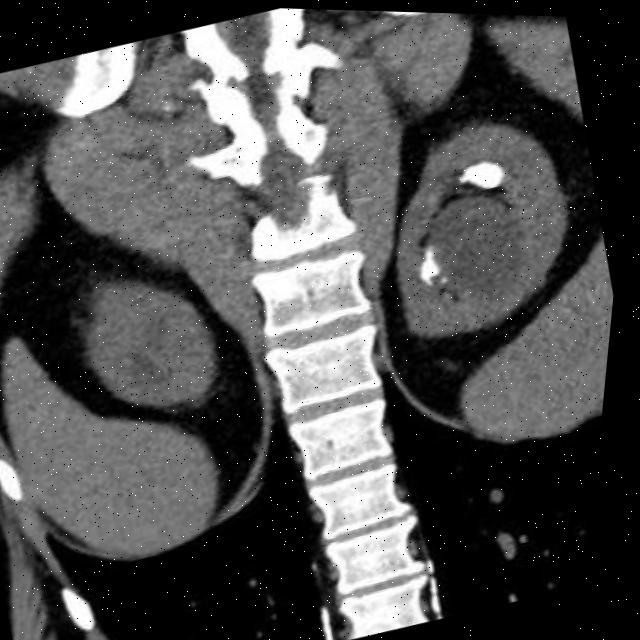Tas_Var: (462, 151, 514, 197), (412, 242, 450, 289), (458, 170, 469, 183), (444, 271, 455, 284)
